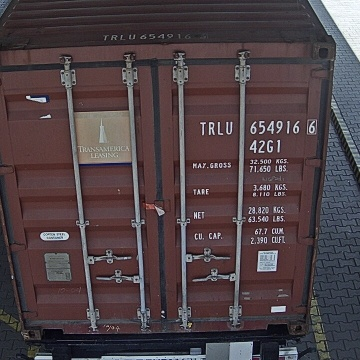serial_id: (200, 119, 317, 134)
